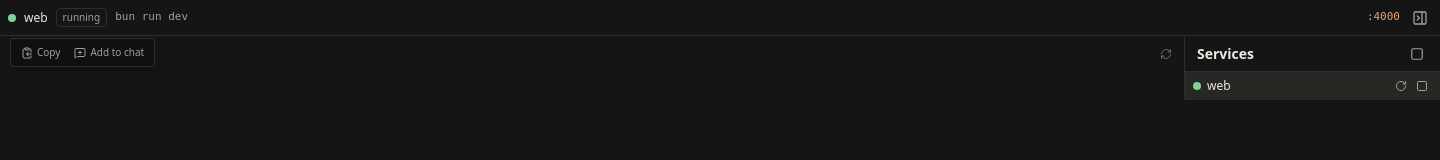
Test: LogViewer — selection toolbar › Copy shows failure feedback on clipboard rejection
This screenshot has width=1440, height=160.
Check: the text "text" is shown, box top-left (26, 46), bottom-right (55, 60)
Click the button with aria-label "copy selected log text" at (41, 52), box top-left (15, 41), bottom-right (66, 64)
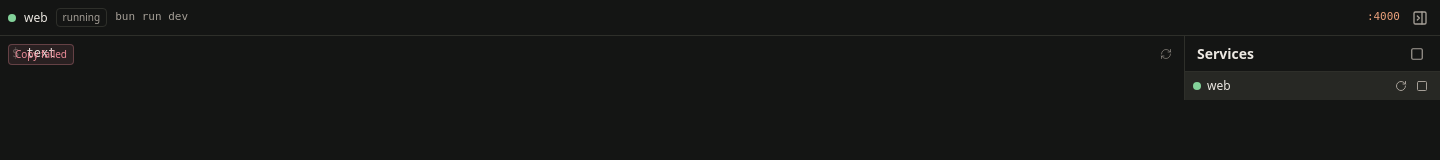
Check: the text "Copy failed" is shown, box top-left (8, 44), bottom-right (74, 65)
